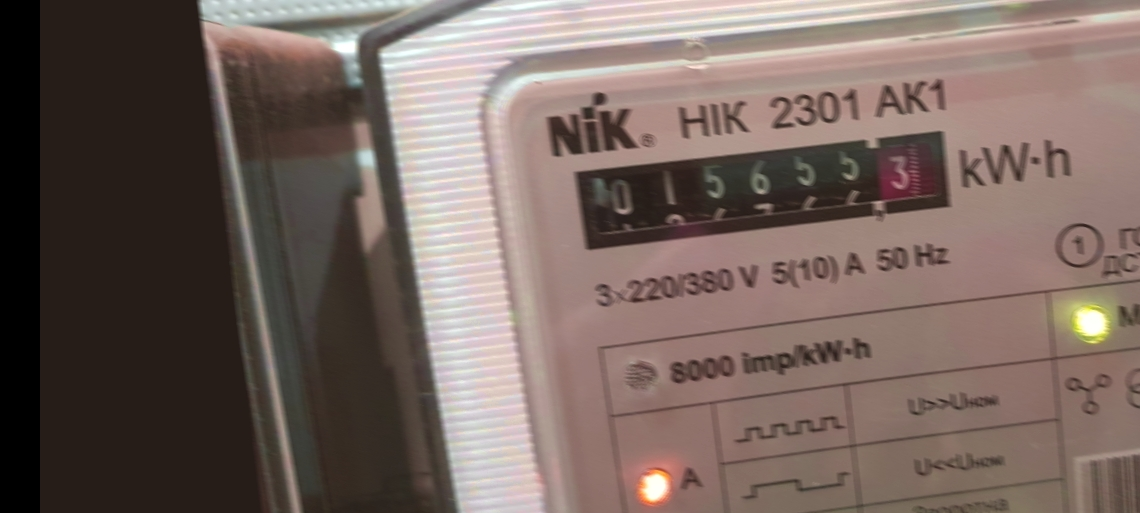0: (606, 175, 636, 219)
1: (658, 168, 681, 209)
3: (887, 154, 911, 192)
5: (700, 164, 728, 202), (792, 155, 819, 189), (839, 149, 861, 184)
6: (746, 159, 773, 198)
screen: (560, 111, 968, 269)
